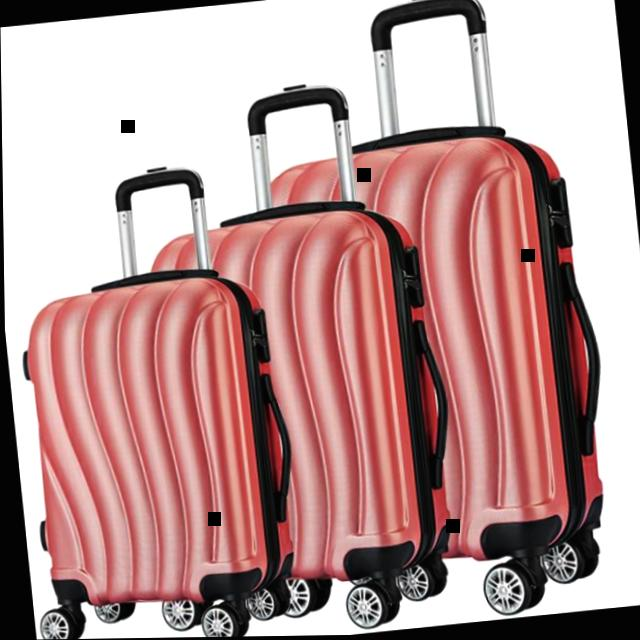luggage: (261, 110, 616, 582), (137, 188, 467, 604), (11, 258, 306, 624)
